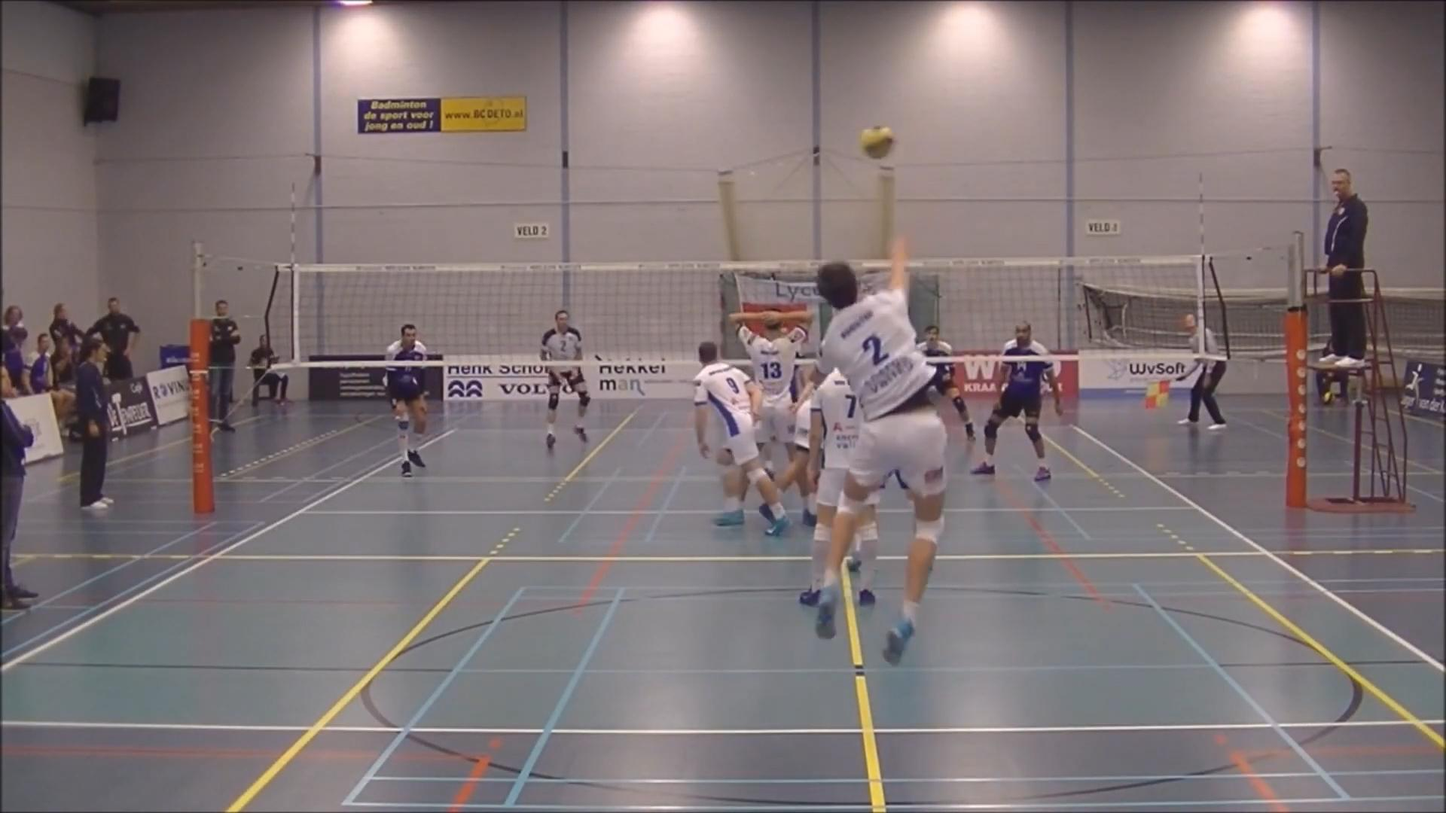battuta: (798, 164, 943, 665)
